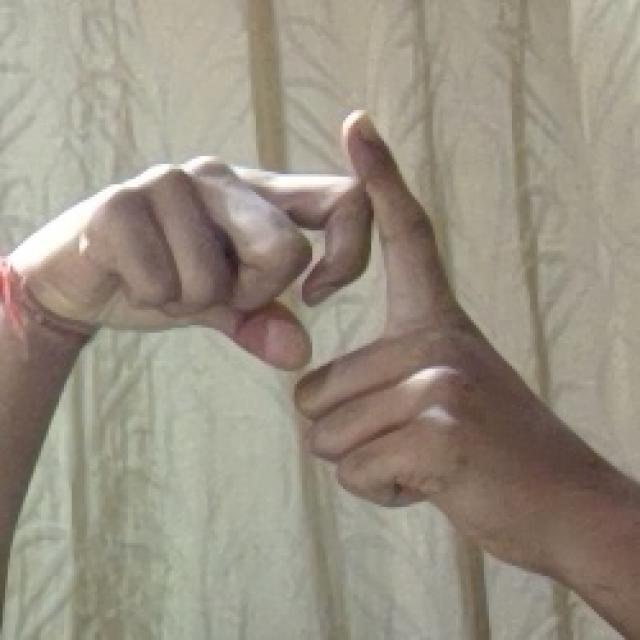Alphabet-K: (53, 99, 589, 582)
